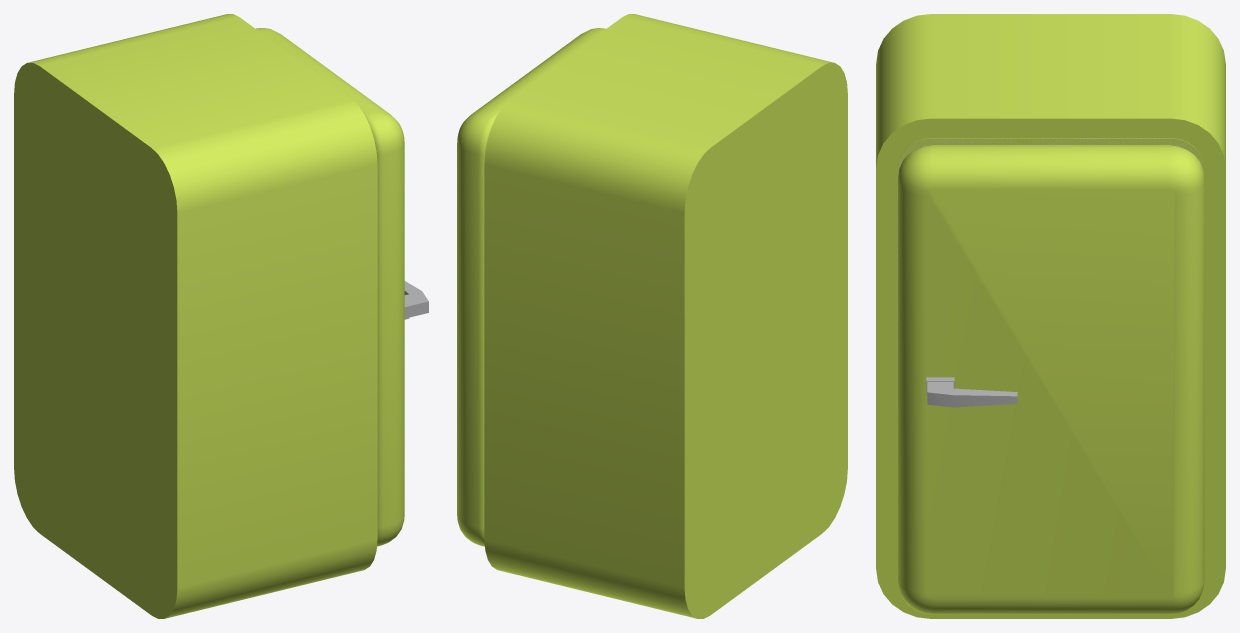
File: fridge.fbx
The picture shows the model from 3 angles, left to right: view 1: azimuth 30°, elevation 25°; view 2: azimuth 150°, elevation 25°; view 3: azimuth 270°, elevation 25°; orthographic projection. The views are drawn at different scales.
Visible parts, largest first — view 1: Cube.001; view 2: Cube.001; view 3: Cube.001.
Boxes of the visible parts, bbox=[...] form: Cube.001: bbox=[14, 14, 428, 618]; Cube.001: bbox=[457, 14, 847, 618]; Cube.001: bbox=[876, 14, 1225, 618].
Size of the model in its own units: 136 by 217 by 137.
